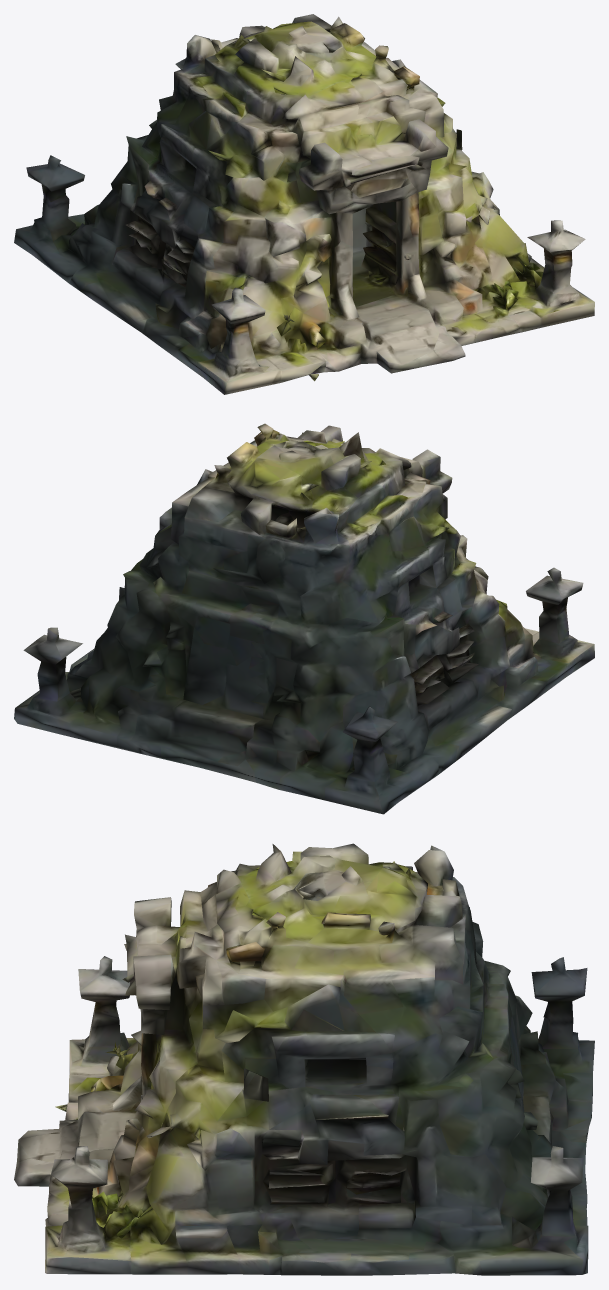
The model's file is anc_stonetomb.glb.
The picture shows the model from 3 angles, top to bottom: view 1: azimuth 30°, elevation 25°; view 2: azimuth 150°, elevation 25°; view 3: azimuth 270°, elevation 25°; orthographic projection. The views are drawn at different scales.
Parts seen in each view (by area): view 1: tripo_node_4a8cf25e-044d-4bf7-b679-fc1a8e016d10; view 2: tripo_node_4a8cf25e-044d-4bf7-b679-fc1a8e016d10; view 3: tripo_node_4a8cf25e-044d-4bf7-b679-fc1a8e016d10.
Boxes of the visible parts, left/top/right/bottom form: tripo_node_4a8cf25e-044d-4bf7-b679-fc1a8e016d10: left=14, top=14, right=594, bottom=394; tripo_node_4a8cf25e-044d-4bf7-b679-fc1a8e016d10: left=14, top=423, right=594, bottom=814; tripo_node_4a8cf25e-044d-4bf7-b679-fc1a8e016d10: left=14, top=843, right=594, bottom=1275.
Bounding box in the file's own units: 0.8942 × 0.5682 × 0.9758.
1 material, 1 textured.
